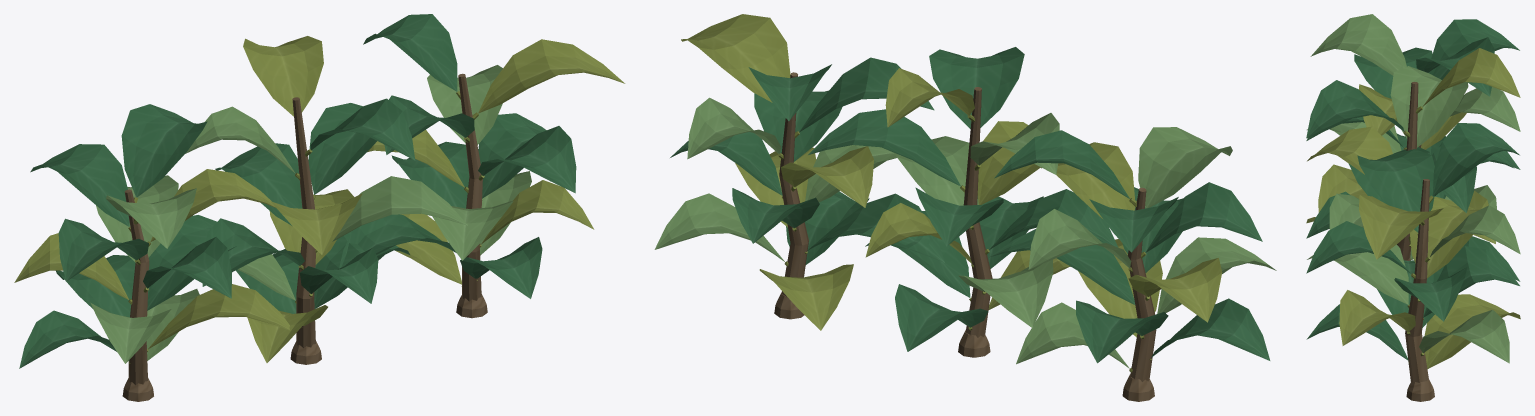
Rendered from AST-BOT-002_pool_middle_05.glb.
3 views of the same model, side by side, from view 1: azimuth 30°, elevation 25°; view 2: azimuth 150°, elevation 25°; view 3: azimuth 270°, elevation 25° (orthographic). The views are drawn at different scales.
Visible parts, largest first — view 1: RT_AST-BOT-002_pool_middle_05__leaf_jade, RT_AST-BOT-002_pool_middle_05__leaf_olive, RT_AST-BOT-002_pool_middle_05__leaf_sage, RT_AST-BOT-002_pool_middle_05__bark; view 2: RT_AST-BOT-002_pool_middle_05__leaf_jade, RT_AST-BOT-002_pool_middle_05__leaf_olive, RT_AST-BOT-002_pool_middle_05__leaf_sage, RT_AST-BOT-002_pool_middle_05__bark; view 3: RT_AST-BOT-002_pool_middle_05__leaf_jade, RT_AST-BOT-002_pool_middle_05__leaf_olive, RT_AST-BOT-002_pool_middle_05__leaf_sage, RT_AST-BOT-002_pool_middle_05__bark.
Part boxes in pixels (x1=…): RT_AST-BOT-002_pool_middle_05__leaf_jade: x1=19, y1=14, x2=576, y2=368; RT_AST-BOT-002_pool_middle_05__leaf_olive: x1=14, y1=36, x2=625, y2=363; RT_AST-BOT-002_pool_middle_05__leaf_sage: x1=90, y1=65, x2=531, y2=363; RT_AST-BOT-002_pool_middle_05__bark: x1=122, y1=73, x2=487, y2=401; RT_AST-BOT-002_pool_middle_05__leaf_jade: x1=670, y1=47, x2=1270, y2=363; RT_AST-BOT-002_pool_middle_05__leaf_olive: x1=681, y1=14, x2=1222, y2=372; RT_AST-BOT-002_pool_middle_05__leaf_sage: x1=654, y1=97, x2=1276, y2=368; RT_AST-BOT-002_pool_middle_05__bark: x1=774, y1=72, x2=1156, y2=401; RT_AST-BOT-002_pool_middle_05__leaf_jade: x1=1306, y1=19, x2=1520, y2=360; RT_AST-BOT-002_pool_middle_05__leaf_olive: x1=1306, y1=48, x2=1520, y2=369; RT_AST-BOT-002_pool_middle_05__leaf_sage: x1=1307, y1=14, x2=1520, y2=363; RT_AST-BOT-002_pool_middle_05__bark: x1=1397, y1=69, x2=1434, y2=401.
Size of the model in its own units: 2.12 by 0.9947 by 0.74.
4 materials, 4 textured.
